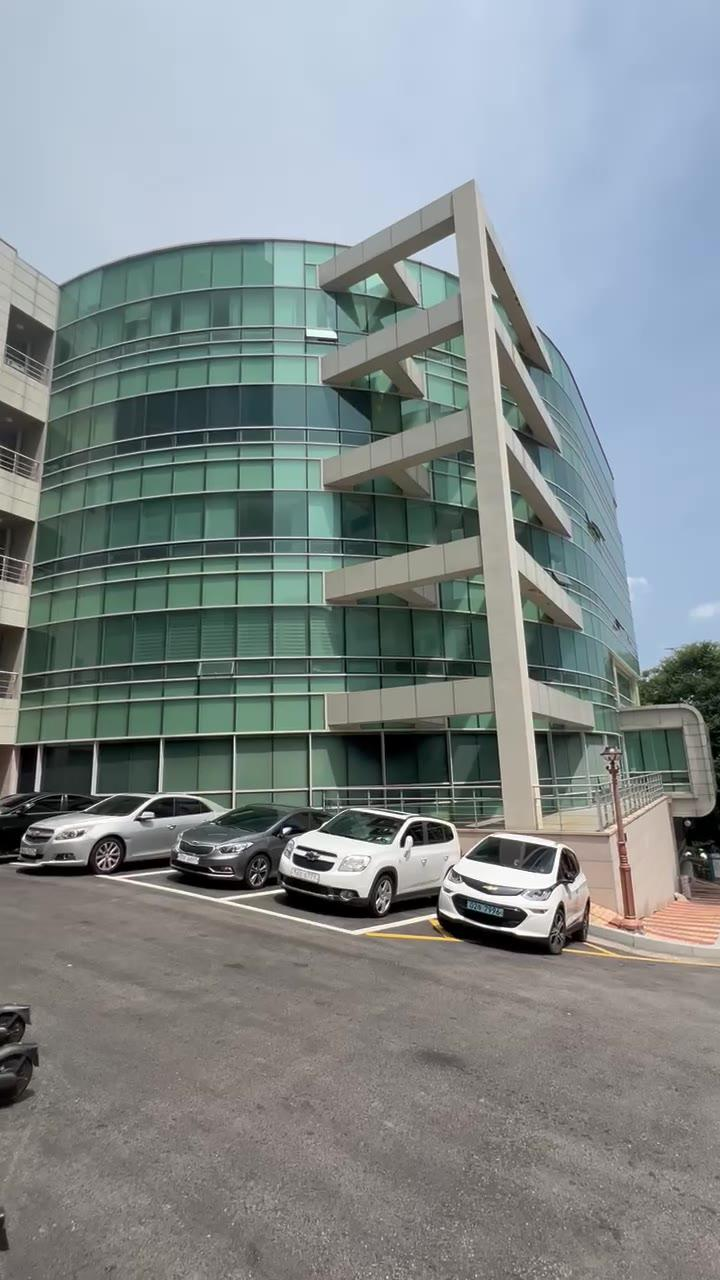building: (0, 190, 662, 814)
